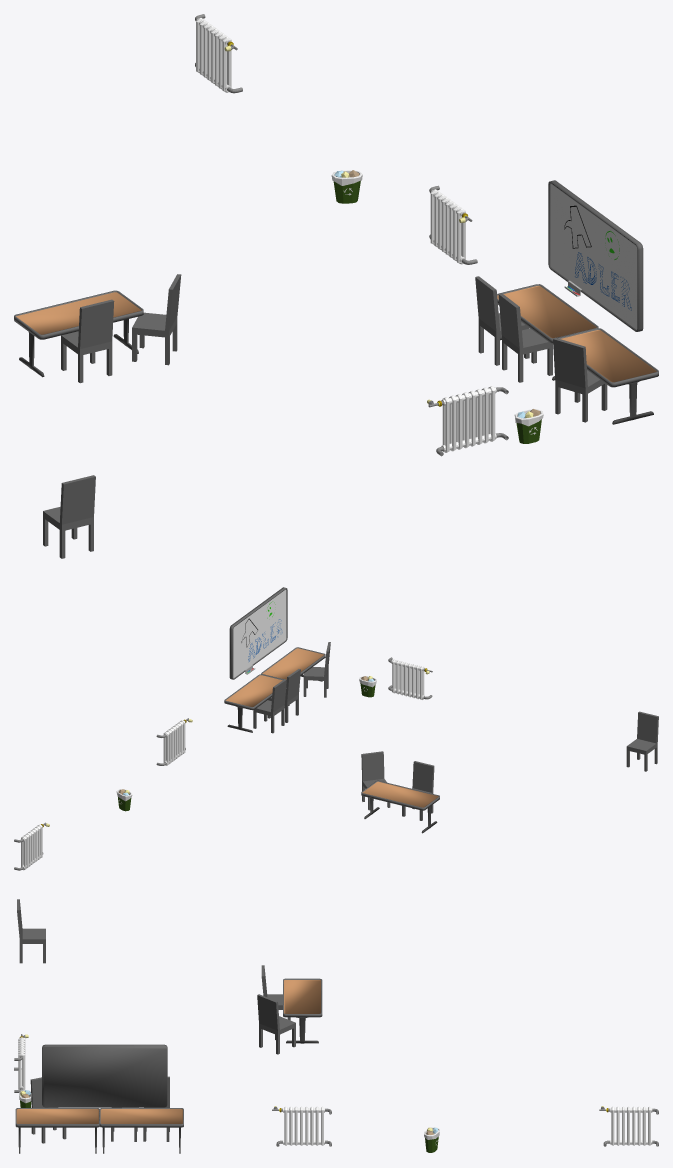
The model's file is dLShape Sampleroom - Deko.glb.
3 views of the same model, one above another, from view 1: azimuth 30°, elevation 25°; view 2: azimuth 150°, elevation 25°; view 3: azimuth 270°, elevation 25° (orthographic). The views are drawn at different scales.
Visible parts, largest first — view 1: Deko_L_Shape campus; view 2: Deko_L_Shape campus; view 3: Deko_L_Shape campus.
Part boxes in pixels (x1,y1,x2,y2): Deko_L_Shape campus: [14, 14, 658, 558]; Deko_L_Shape campus: [14, 587, 658, 870]; Deko_L_Shape campus: [14, 899, 658, 1153].
Bounding box in the file's own units: 9.46 × 2.36 × 12.63.
Materials: 1 (1 with a texture image).
